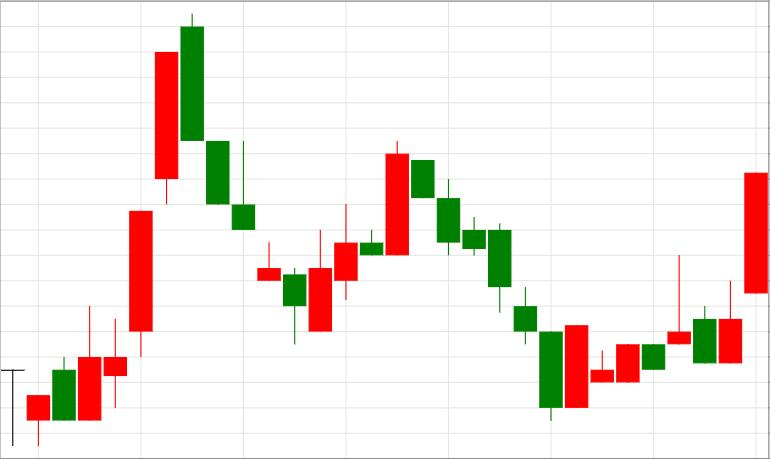three_black_crows_fall: (53, 13, 255, 420)
